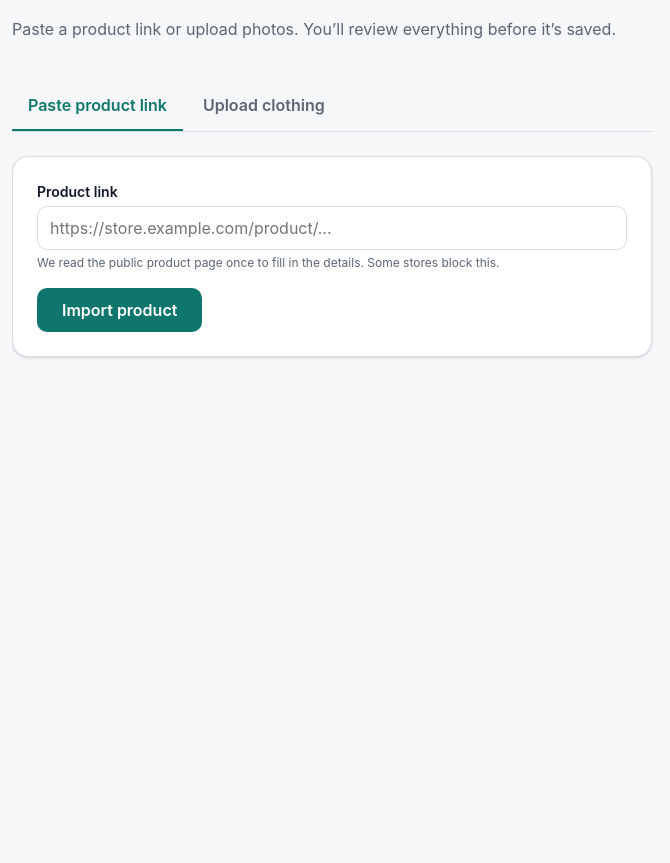
product link import › shows the fallback message and offers manual upload when import fails
The image size is (670, 863).
Type "https://blocked.example.com/p/1" into the field labelled "Product link" at (332, 228), box [37, 206, 627, 250]
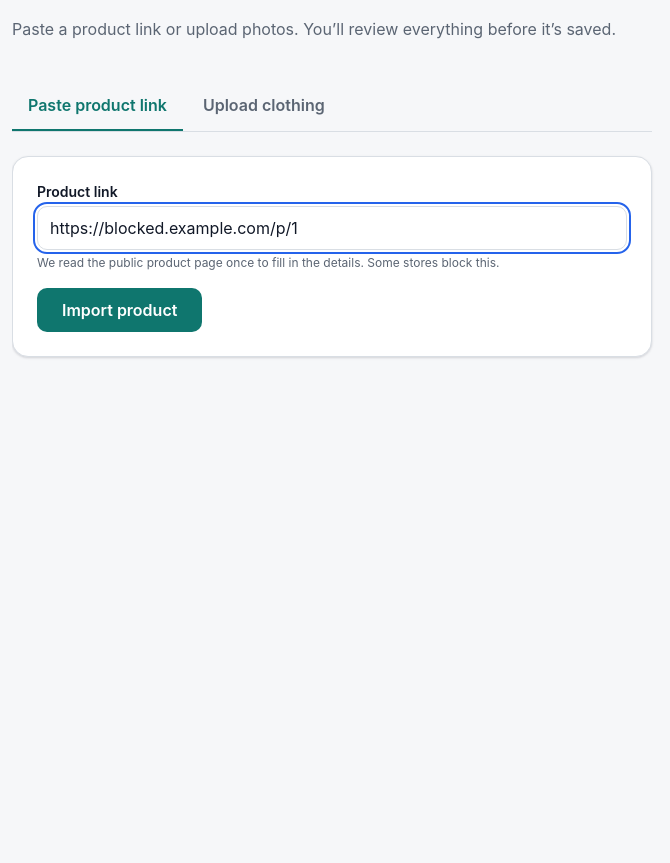
Click the button "Import product" at (120, 310), box [37, 288, 202, 332]
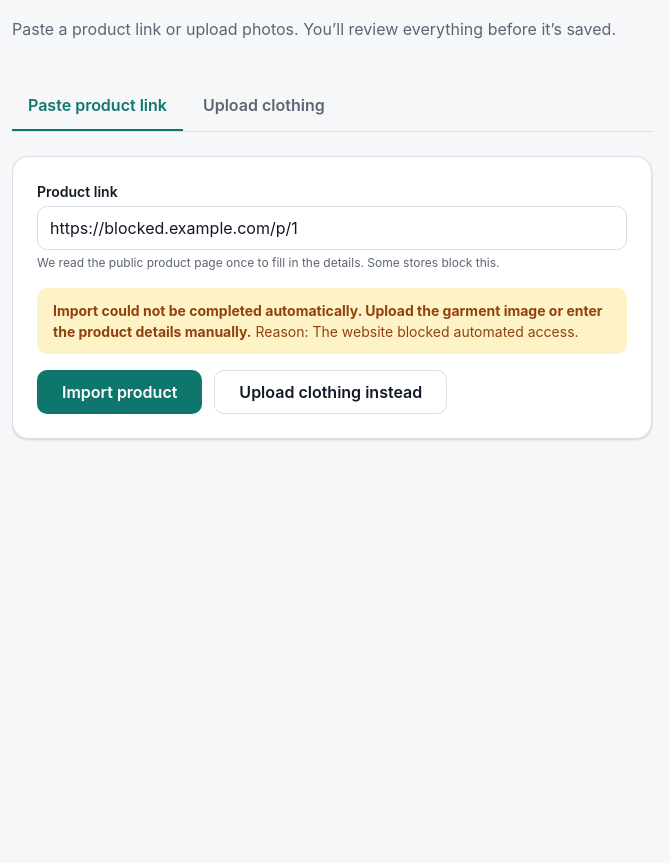
Check: the text "Import could not be completed automatically. Upload the garment image or enter the product details manually." is shown, box [53, 302, 602, 340]
Check: the text "blocked automated access" is shown, box [312, 323, 579, 340]
Click the button "Upload clothing instead" at (331, 392), box [214, 370, 447, 414]
(page scrolled)
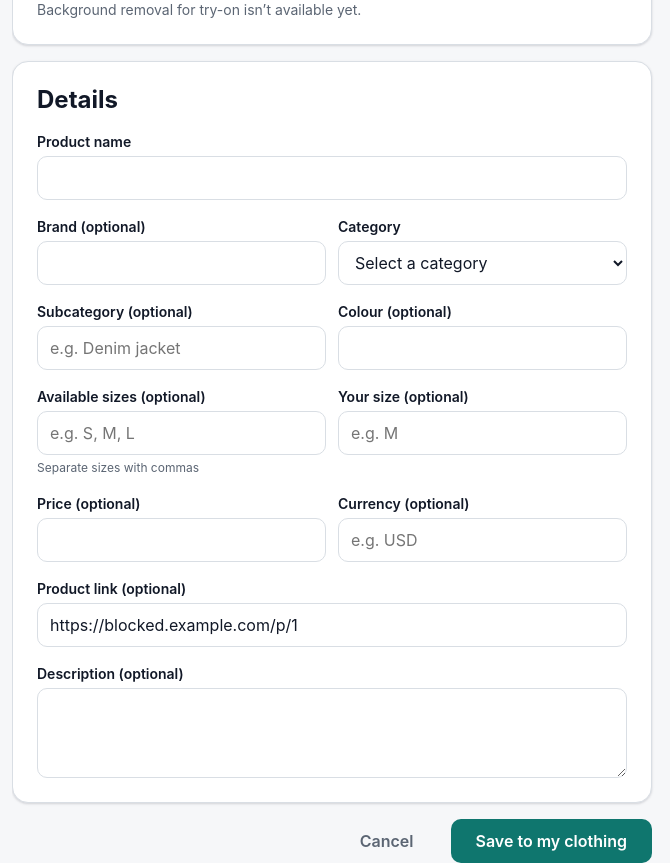
Check: the field labelled "Product link (optional)" holds "https://blocked.example.com/p/1", box [37, 603, 627, 647]
